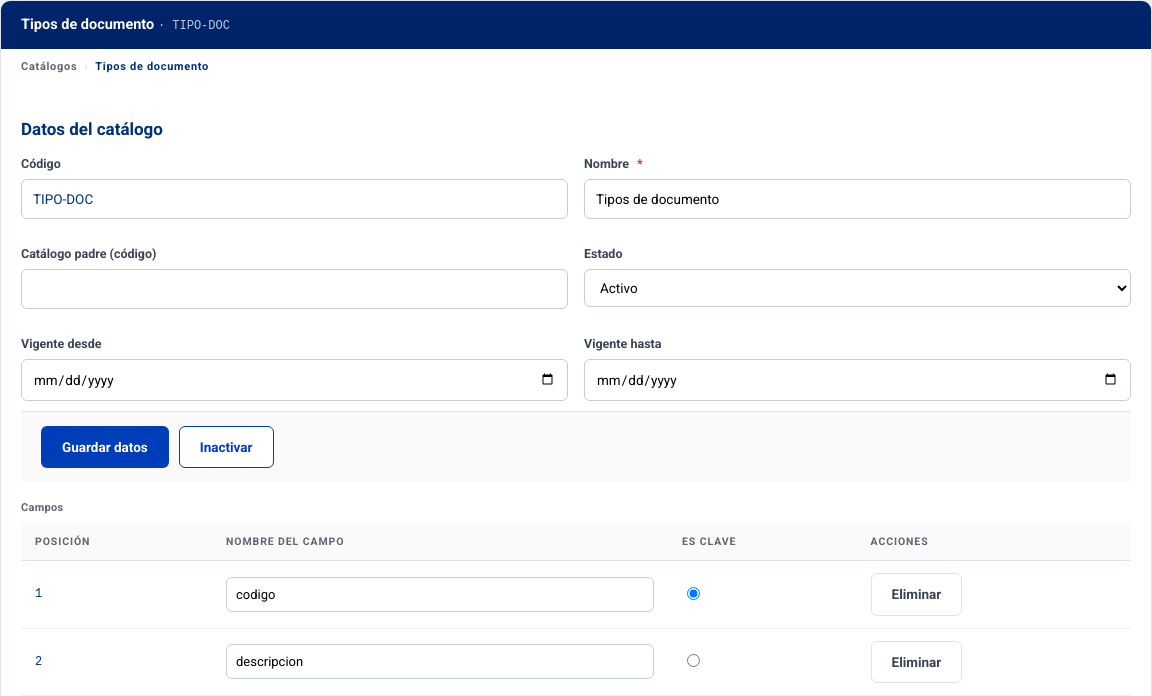
Test case: la clave del catálogo es una sola › marcar una desmarca la anterior
This screenshot has width=1152, height=696.
Expected: the radio button named "El campo 1 es clave" is checked, [687, 587, 700, 600]
Click the radio button named "El campo 2 es clave" at [694, 660], box [687, 654, 700, 667]
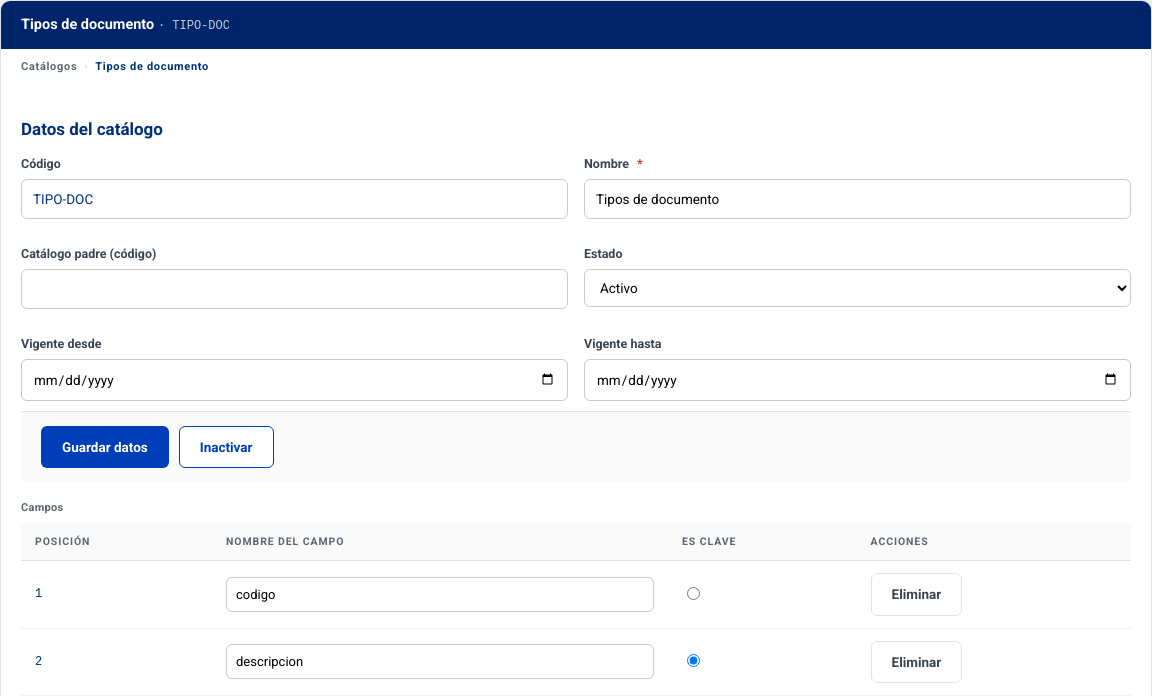
Now the radio button named "El campo 2 es clave" is checked, box [687, 654, 700, 667]
Now the radio button named "El campo 1 es clave" is not checked, box [687, 587, 700, 600]
